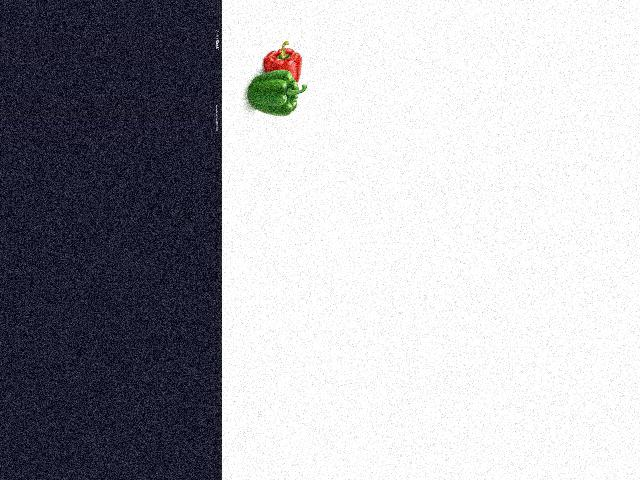bell_pepper: (264, 41, 306, 84)
